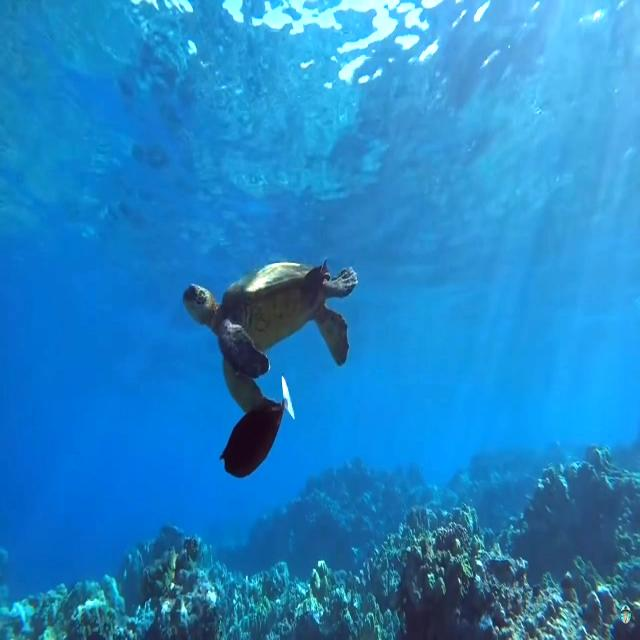Sea turtle: (182, 264, 358, 411)
